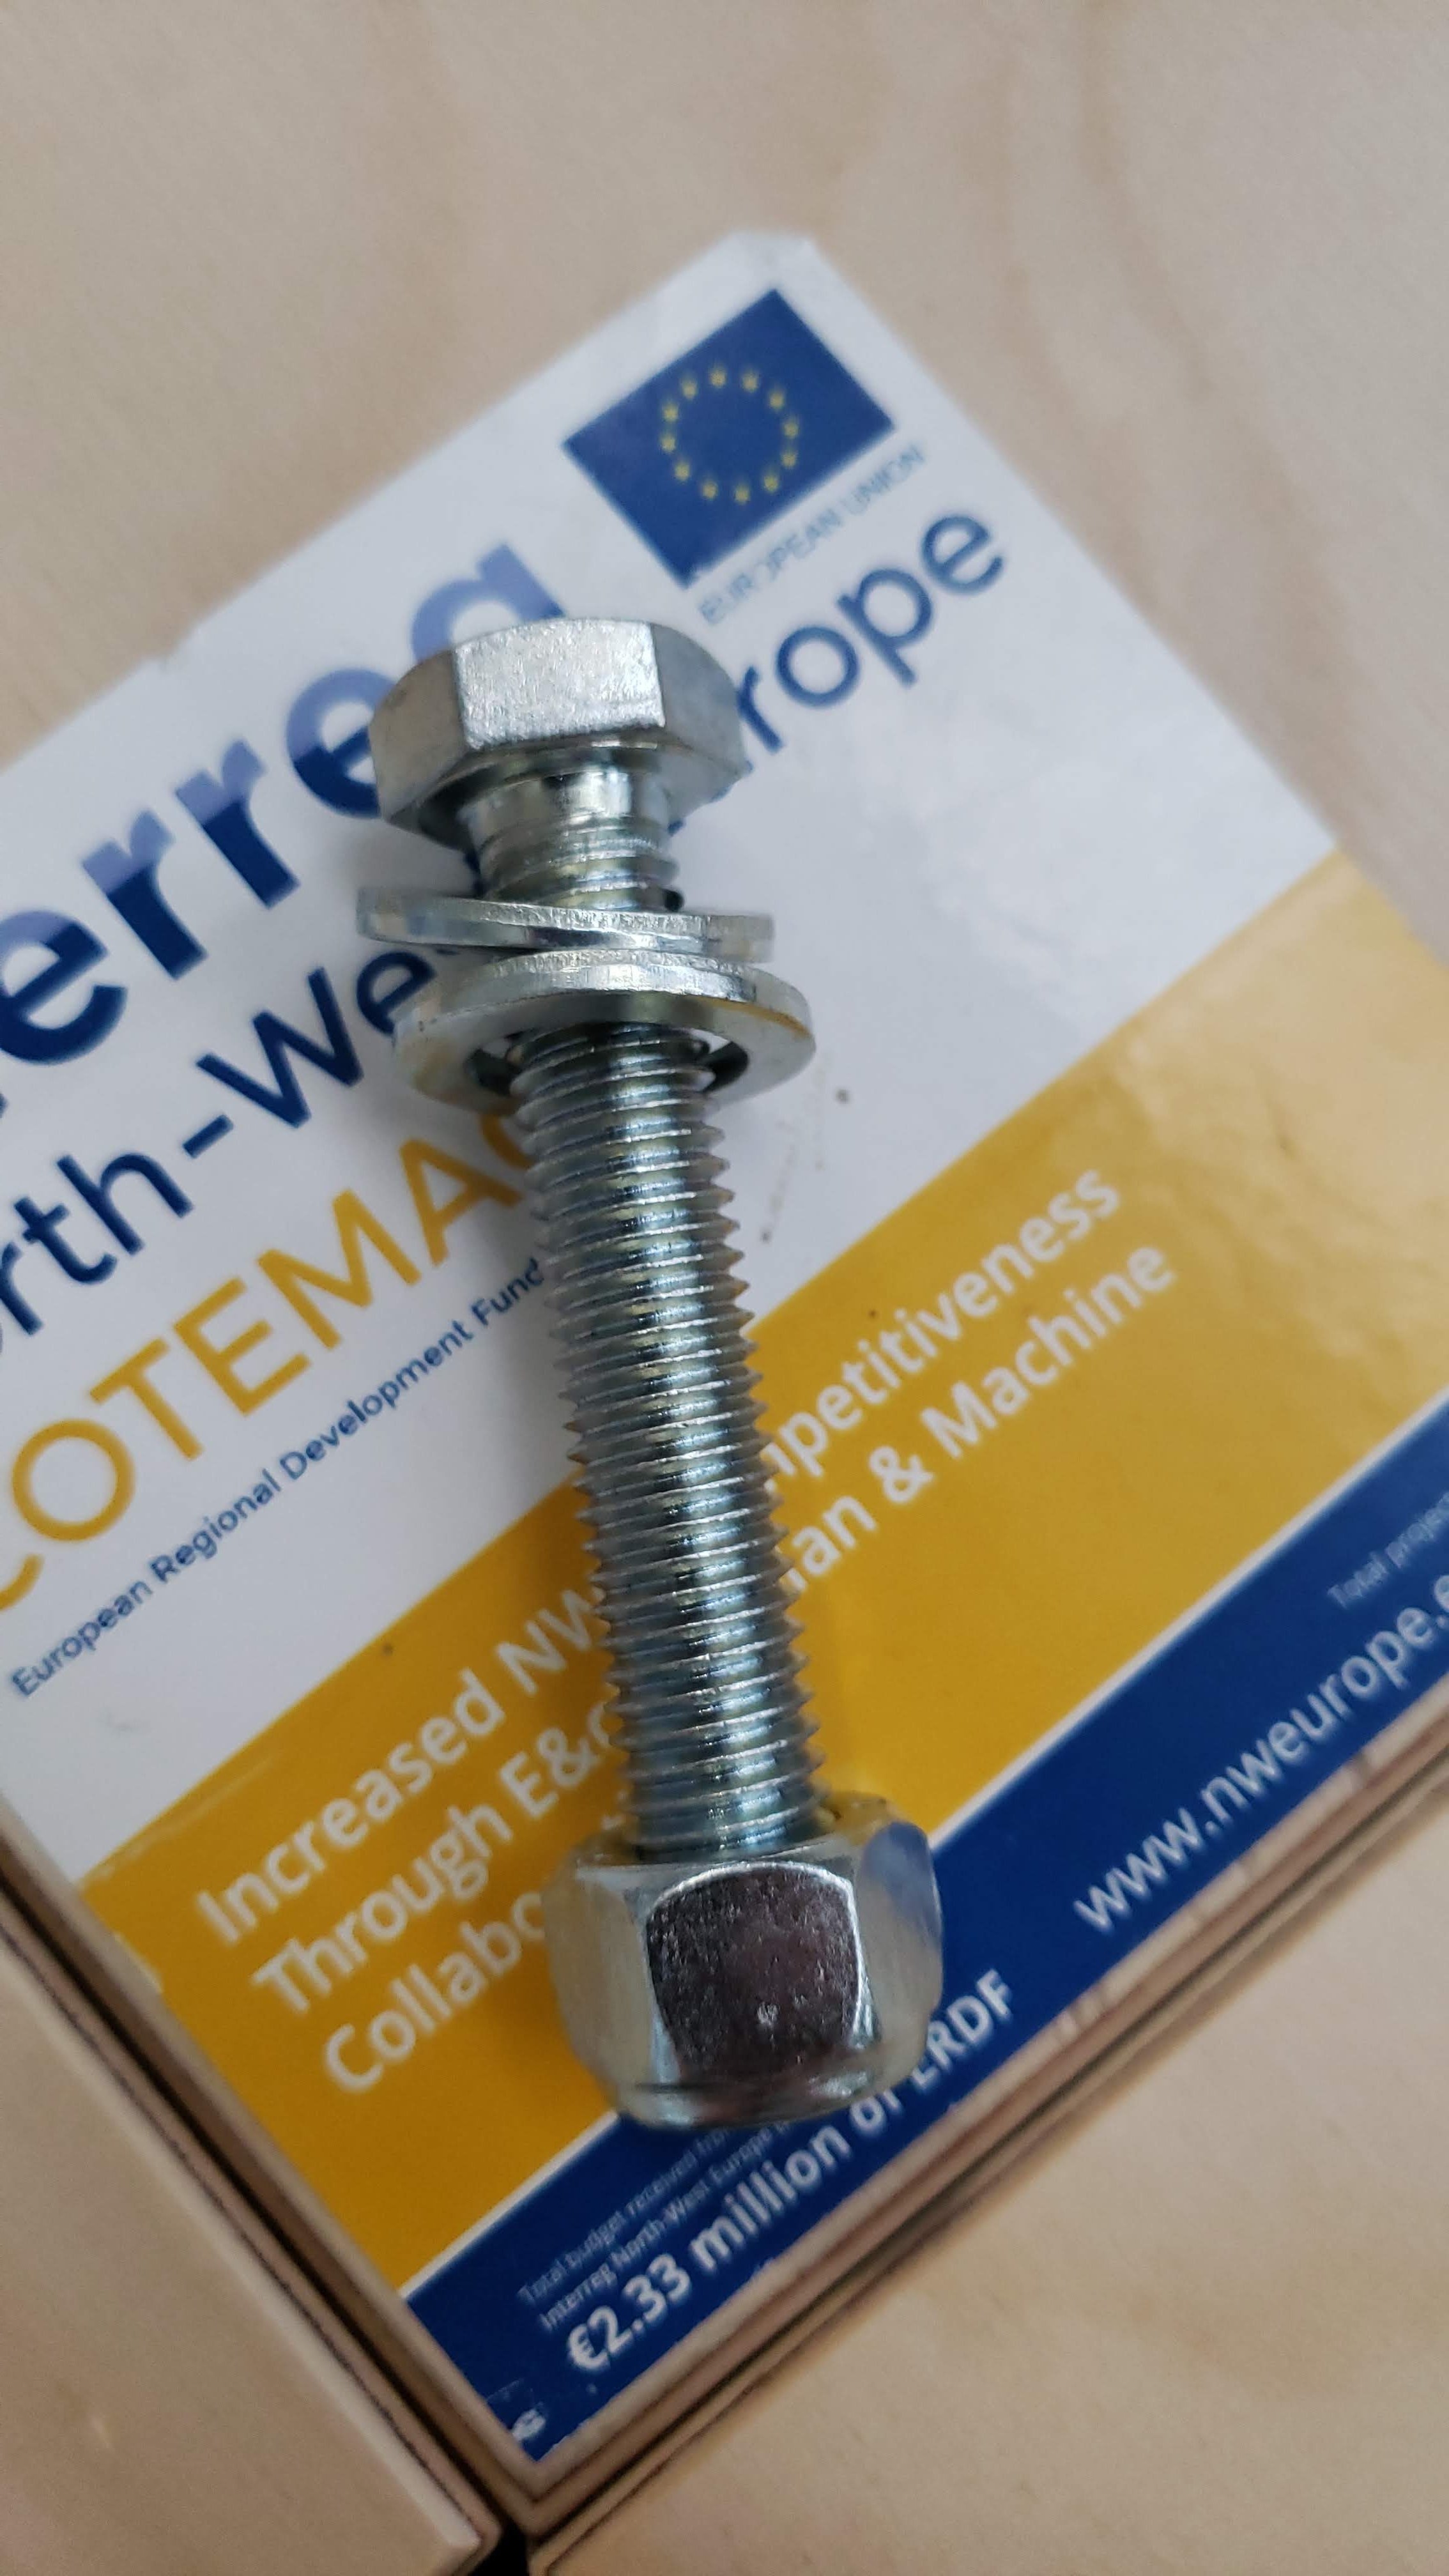FinishedAssembly: (257, 483, 1040, 2321)
